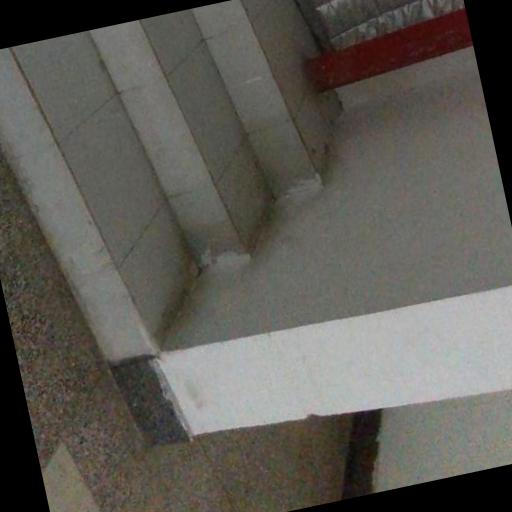stairs: (0, 0, 335, 360)
